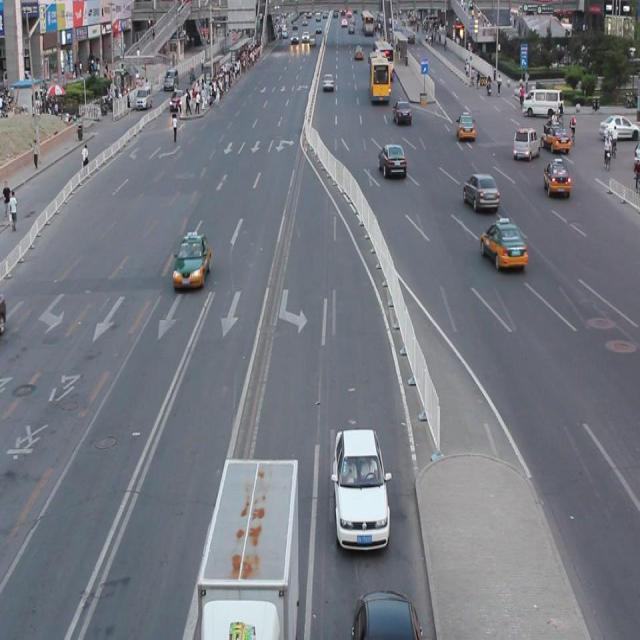bus: (194, 452, 299, 640)
car: (332, 426, 389, 548), (350, 584, 419, 640), (478, 217, 526, 271), (172, 228, 211, 292), (461, 172, 498, 210), (542, 160, 570, 196)
